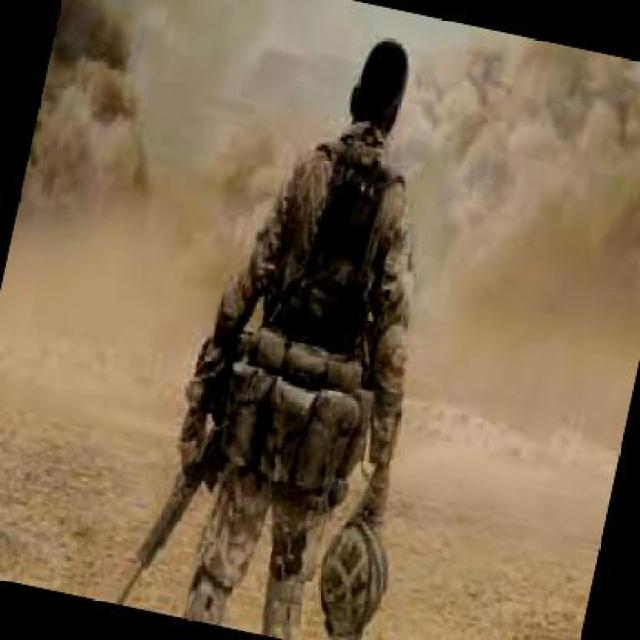MIL_Pax: (135, 6, 503, 639)
